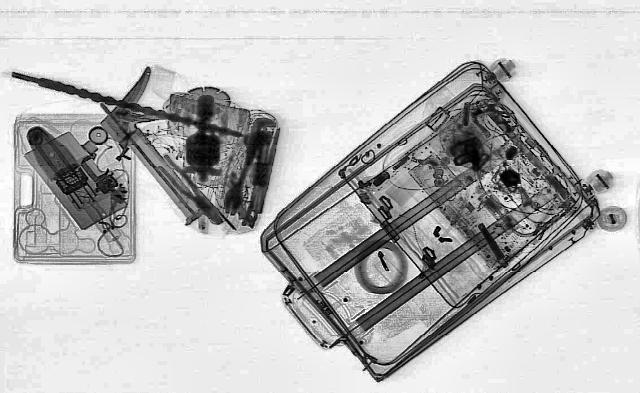Wrench: (216, 116, 274, 216)
